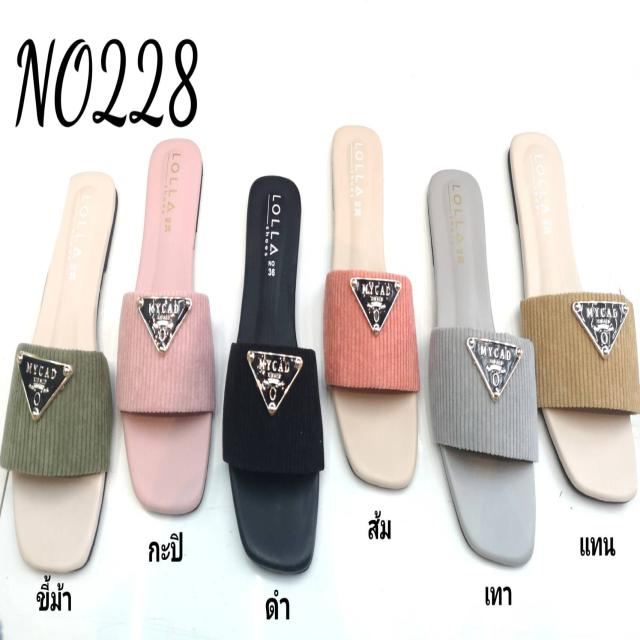black: (217, 176, 318, 568)
grey: (429, 172, 536, 568)
kapi: (120, 138, 214, 515)
keema: (16, 170, 118, 574)
orange: (322, 126, 422, 502)
tan: (511, 134, 638, 504)
